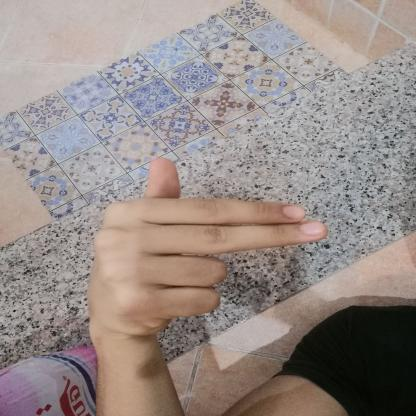GHAYN: (68, 148, 344, 343)
